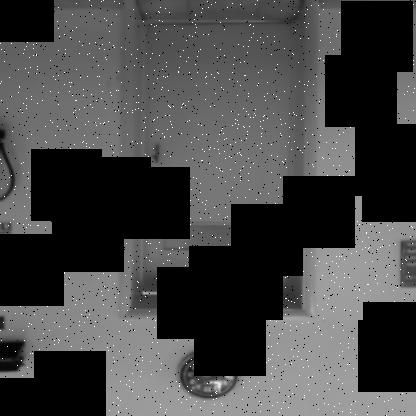Porte: (114, 1, 322, 324)
